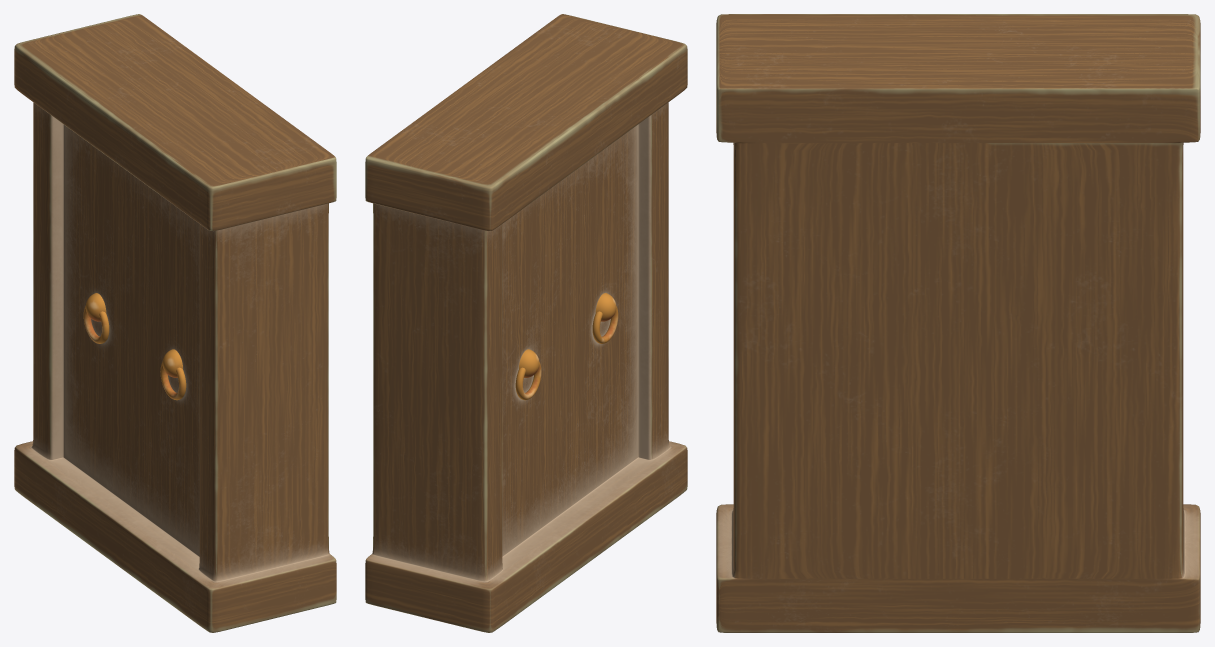
The model's file is Wardrobe_Textured.fbx.
The picture shows the model from 3 angles, left to right: view 1: azimuth 30°, elevation 25°; view 2: azimuth 150°, elevation 25°; view 3: azimuth 270°, elevation 25°; orthographic projection. The views are drawn at different scales.
Visible parts, largest first — view 1: w_01, w_03, w_02; view 2: w_01, w_03, w_02; view 3: w_01.
Part boxes in pixels (left/top/right/bottom): w_01: left=14, top=14, right=336, bottom=632; w_03: left=83, top=306, right=186, bottom=400; w_02: left=85, top=293, right=182, bottom=377; w_01: left=365, top=14, right=687, bottom=632; w_03: left=515, top=306, right=618, bottom=400; w_02: left=519, top=293, right=616, bottom=377; w_01: left=716, top=14, right=1200, bottom=632.
Bounding box in the file's own units: 2.14 × 7.17 × 5.77.
Materials: 1 (1 with a texture image).
